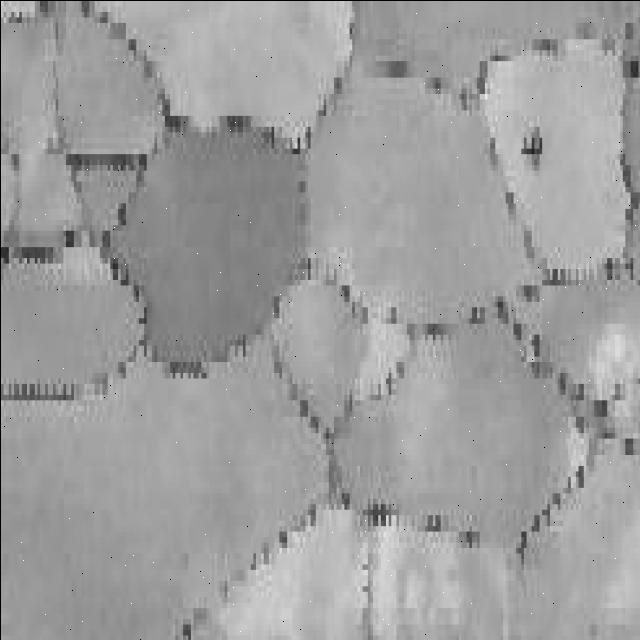good_void: (519, 124, 543, 175)
